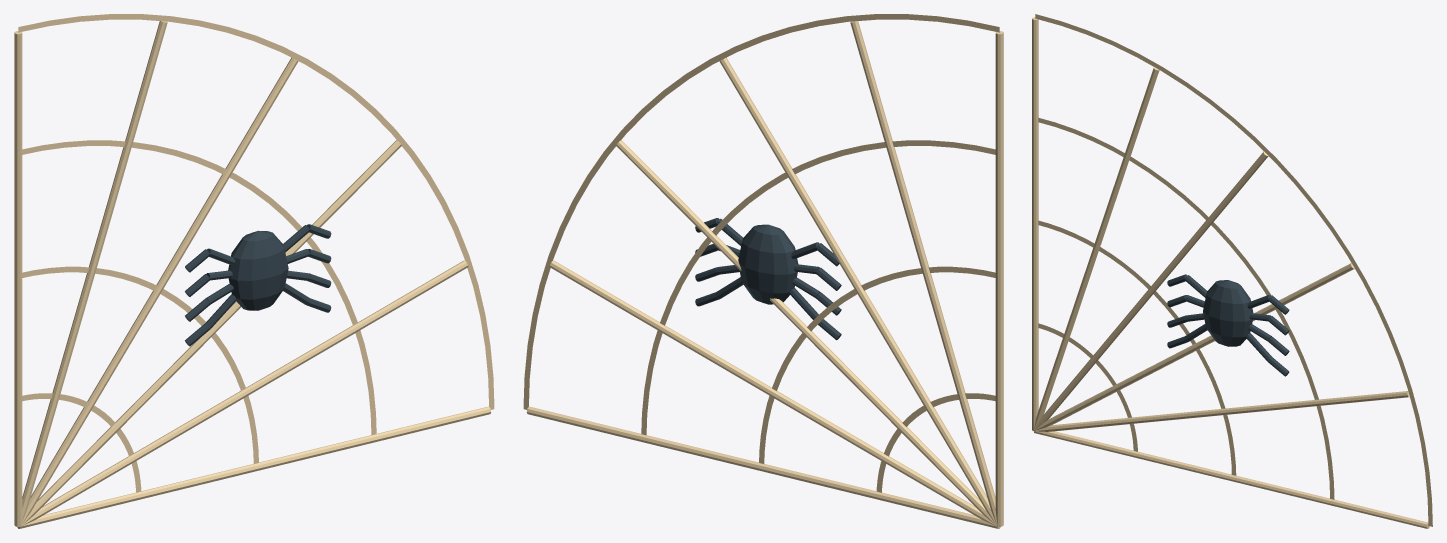
The model's file is spider_web_corner.glb.
3 views of the same model, side by side, from view 1: azimuth 30°, elevation 25°; view 2: azimuth 150°, elevation 25°; view 3: azimuth 330°, elevation 25° (orthographic). The views are drawn at different scales.
Parts seen in each view (by area): view 1: spoke.003, web.003, spoke.005, spoke.004, spoke.001, spoke, spider, spoke.002, web.002, web.001, web; view 2: spoke.003, web.003, spoke.005, spoke.004, spoke.001, spoke.002, spoke, spider, web.002, web.001, web; view 3: web.003, spoke, spoke.005, spider, spoke.001, spoke.004, spoke.003, web.002, spoke.002, web.001, web.
Boxes of the visible parts, x1=… form: spoke.003: x1=21, y1=58, x2=298, y2=525; web.003: x1=18, y1=14, x2=494, y2=409; spoke.005: x1=14, y1=31, x2=22, y2=526; spoke.004: x1=20, y1=21, x2=167, y2=525; spoke.001: x1=21, y1=260, x2=468, y2=526; spoke: x1=17, y1=406, x2=490, y2=528; spider: x1=228, y1=230, x2=288, y2=310; spoke.002: x1=21, y1=140, x2=401, y2=525; web.002: x1=22, y1=140, x2=376, y2=435; web.001: x1=22, y1=266, x2=258, y2=463; web: x1=22, y1=393, x2=141, y2=492; spoke.003: x1=719, y1=58, x2=996, y2=525; web.003: x1=523, y1=14, x2=999, y2=409; spoke.005: x1=995, y1=31, x2=1003, y2=526; spoke.004: x1=850, y1=21, x2=997, y2=525; spoke.001: x1=549, y1=260, x2=996, y2=526; spoke.002: x1=616, y1=140, x2=996, y2=525; spoke: x1=527, y1=406, x2=1000, y2=528; spider: x1=738, y1=224, x2=798, y2=304; web.002: x1=641, y1=140, x2=995, y2=435; web.001: x1=759, y1=266, x2=995, y2=463; web: x1=876, y1=393, x2=995, y2=492; web.003: x1=1035, y1=14, x2=1432, y2=526; spoke: x1=1034, y1=431, x2=1429, y2=528; spoke.005: x1=1032, y1=17, x2=1038, y2=430; spider: x1=1203, y1=280, x2=1253, y2=346; spoke.001: x1=1034, y1=391, x2=1409, y2=431; spoke.004: x1=1033, y1=67, x2=1159, y2=430; spoke.003: x1=1034, y1=151, x2=1268, y2=430; web.002: x1=1038, y1=117, x2=1334, y2=499; spoke.002: x1=1034, y1=263, x2=1354, y2=430; web.001: x1=1038, y1=220, x2=1236, y2=475; web: x1=1038, y1=323, x2=1137, y2=451.
Size of the model in its own units: 1.63 by 1.63 by 0.12.
